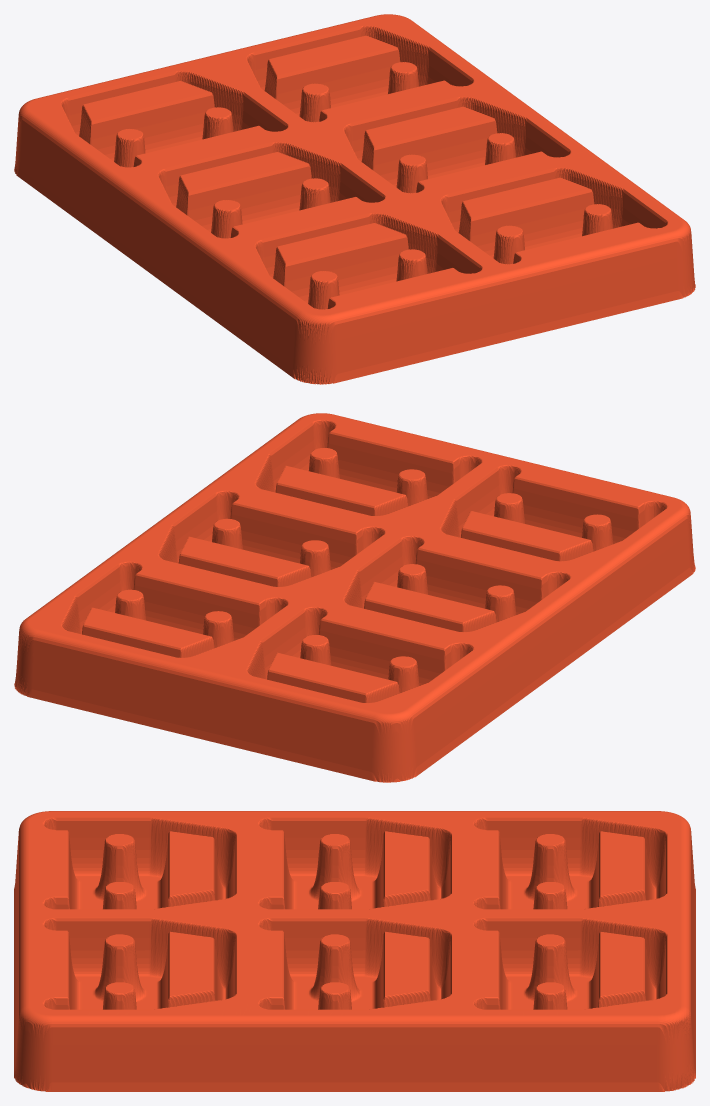
Rendered from mold.glb.
The picture shows the model from 3 angles, top to bottom: view 1: azimuth 30°, elevation 25°; view 2: azimuth 150°, elevation 25°; view 3: azimuth 270°, elevation 25°; orthographic projection. The views are drawn at different scales.
Parts seen in each view (by area): view 1: geometry_0; view 2: geometry_0; view 3: geometry_0.
Part boxes in pixels (x1,y1,x2,y2): geometry_0: (14,14,695,384); geometry_0: (14,413,695,782); geometry_0: (14,811,695,1091).
Bounding box in the file's own units: 0.1222 × 0.0185 × 0.163.
